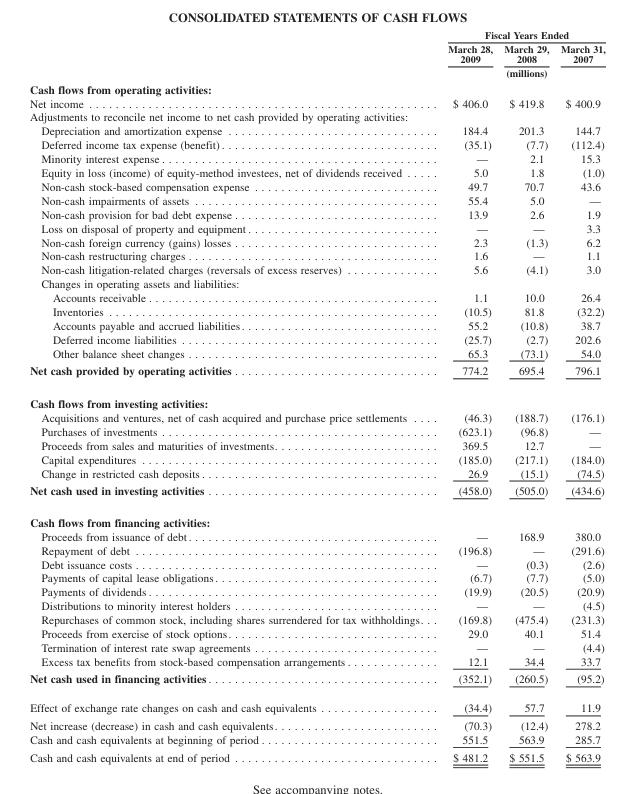table: (29, 29, 604, 763)
table column: (29, 29, 434, 763), (434, 29, 497, 763), (497, 29, 554, 763), (554, 29, 604, 763)
table column header: (29, 29, 604, 80)
table projected row header: (29, 386, 604, 410), (29, 506, 604, 528), (29, 80, 604, 95), (29, 109, 604, 123), (29, 276, 604, 290)
table row: (29, 41, 604, 80), (29, 361, 604, 386), (29, 481, 604, 506), (29, 386, 604, 410), (29, 669, 604, 693), (29, 693, 604, 716), (29, 506, 604, 528), (29, 345, 604, 361), (29, 465, 604, 481), (29, 653, 604, 669), (29, 716, 604, 732), (29, 732, 604, 748), (29, 80, 604, 95), (29, 748, 604, 763), (29, 95, 604, 109), (29, 109, 604, 123), (29, 123, 604, 137), (29, 137, 604, 151), (29, 151, 604, 165), (29, 165, 604, 179), (29, 179, 604, 193), (29, 206, 604, 220), (29, 220, 604, 234), (29, 234, 604, 248), (29, 248, 604, 262), (29, 262, 604, 276), (29, 276, 604, 290), (29, 290, 604, 304), (29, 304, 604, 318), (29, 331, 604, 345), (29, 410, 604, 424), (29, 424, 604, 438), (29, 451, 604, 465), (29, 528, 604, 542), (29, 542, 604, 556), (29, 556, 604, 570), (29, 570, 604, 584), (29, 584, 604, 598), (29, 598, 604, 612), (29, 612, 604, 626), (29, 626, 604, 640), (29, 193, 604, 206), (29, 318, 604, 331), (29, 438, 604, 451), (29, 640, 604, 653), (29, 29, 604, 41)
table spanning cell: (434, 29, 604, 41)
